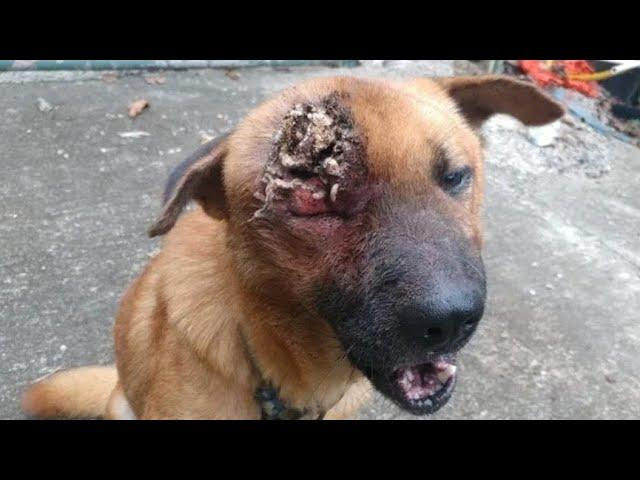infection: (207, 86, 439, 258)
